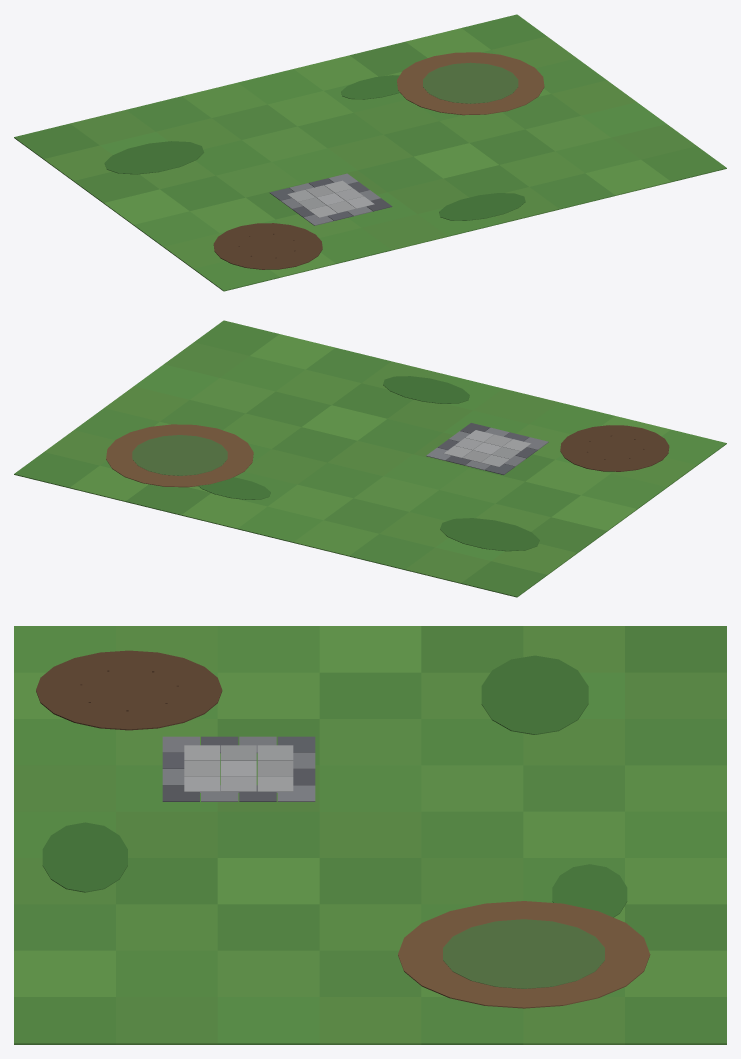
Rendered from Decor_Beanstalk_Ground.fbx.
3 renders of one model, top to bottom at view 1: azimuth 30°, elevation 25°; view 2: azimuth 150°, elevation 25°; view 3: azimuth 270°, elevation 25°, orthographic. The views are drawn at different scales.
Visible parts, largest first — view 1: Ground_Body; view 2: Ground_Body; view 3: Ground_Body.
Boxes of the visible parts, x1,y1,x2,y2 form: Ground_Body: (14,14,726,291); Ground_Body: (14,320,726,597); Ground_Body: (14,626,726,1044).
Bounding box in the file's own units: 180 × 0.59 × 130.
